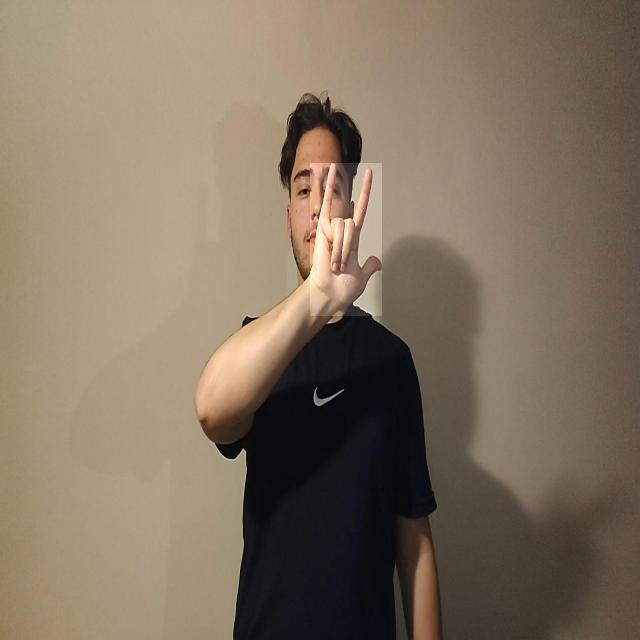iloveyou: (310, 164, 382, 318)
